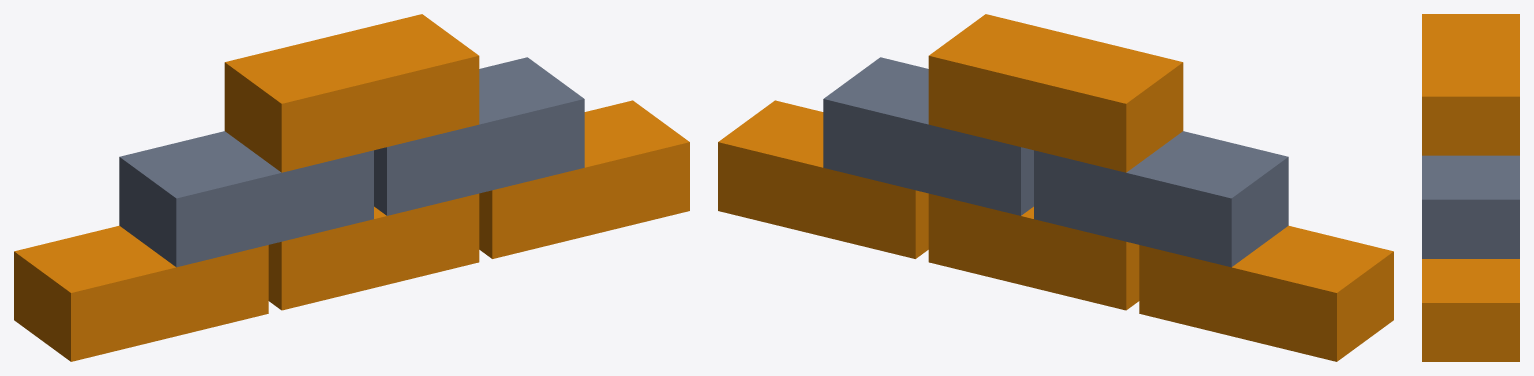
Rendered from ingot_stack.obj.
The picture shows the model from 3 angles, left to right: view 1: azimuth 30°, elevation 25°; view 2: azimuth 150°, elevation 25°; view 3: azimuth 270°, elevation 25°; orthographic projection. The views are drawn at different scales.
Visible parts, largest first — view 1: ingot_stack; view 2: ingot_stack; view 3: ingot_stack.
Boxes of the visible parts, left/top/right/bottom form: ingot_stack: left=14, top=14, right=689, bottom=361; ingot_stack: left=718, top=14, right=1393, bottom=361; ingot_stack: left=1422, top=14, right=1519, bottom=361.
Bounding box in the file's own units: 0.94 × 0.3 × 0.15.
